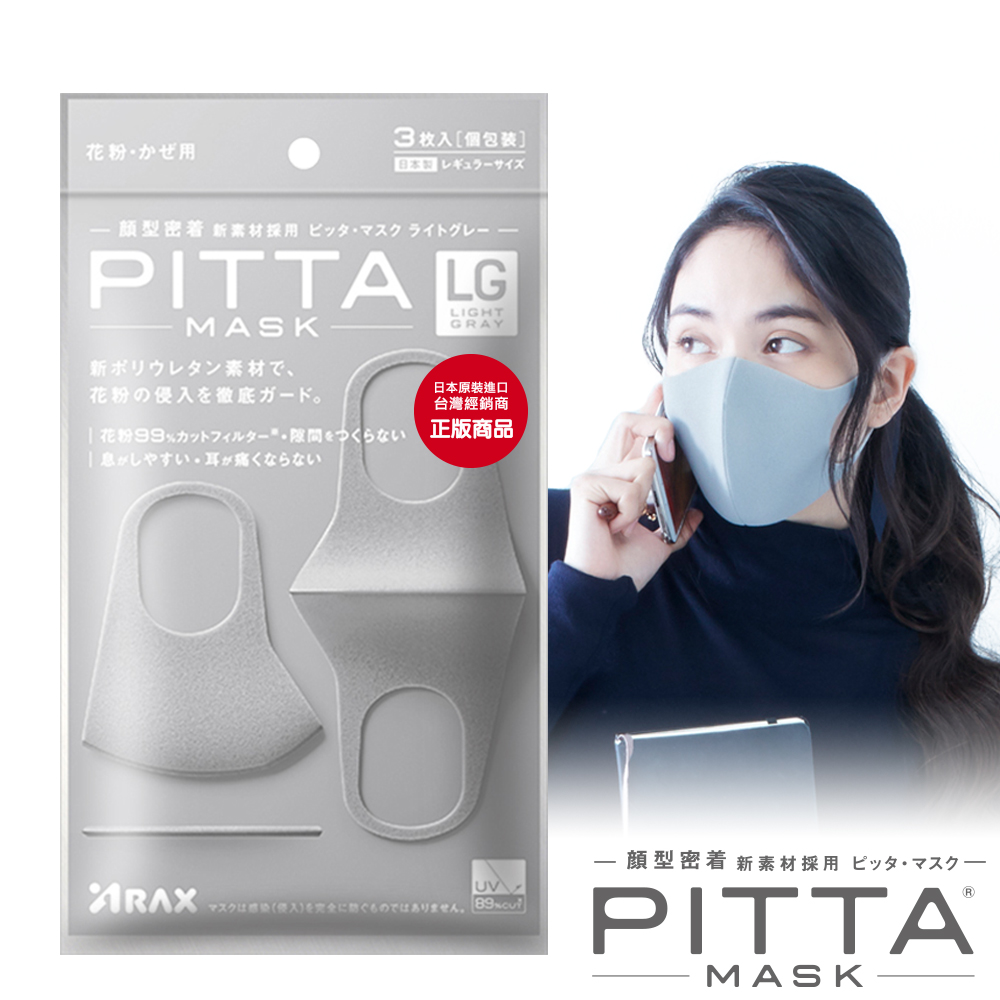Mask: (655, 220, 876, 537)
